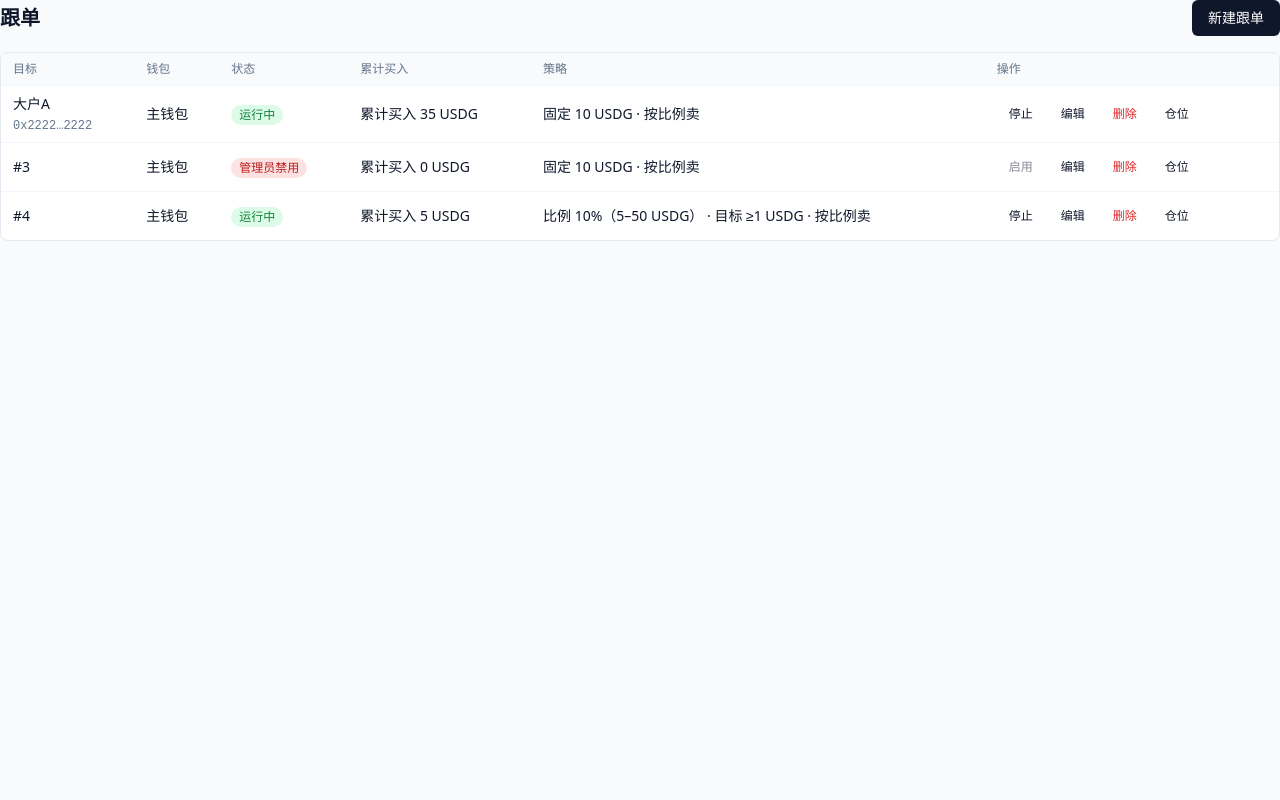
deletes with confirmation; 409 links to positions; warning is toasted
The image size is (1280, 800).
Click the button "删除" in the row of "大户A". click: (1125, 114)
box: [1101, 98, 1149, 130]
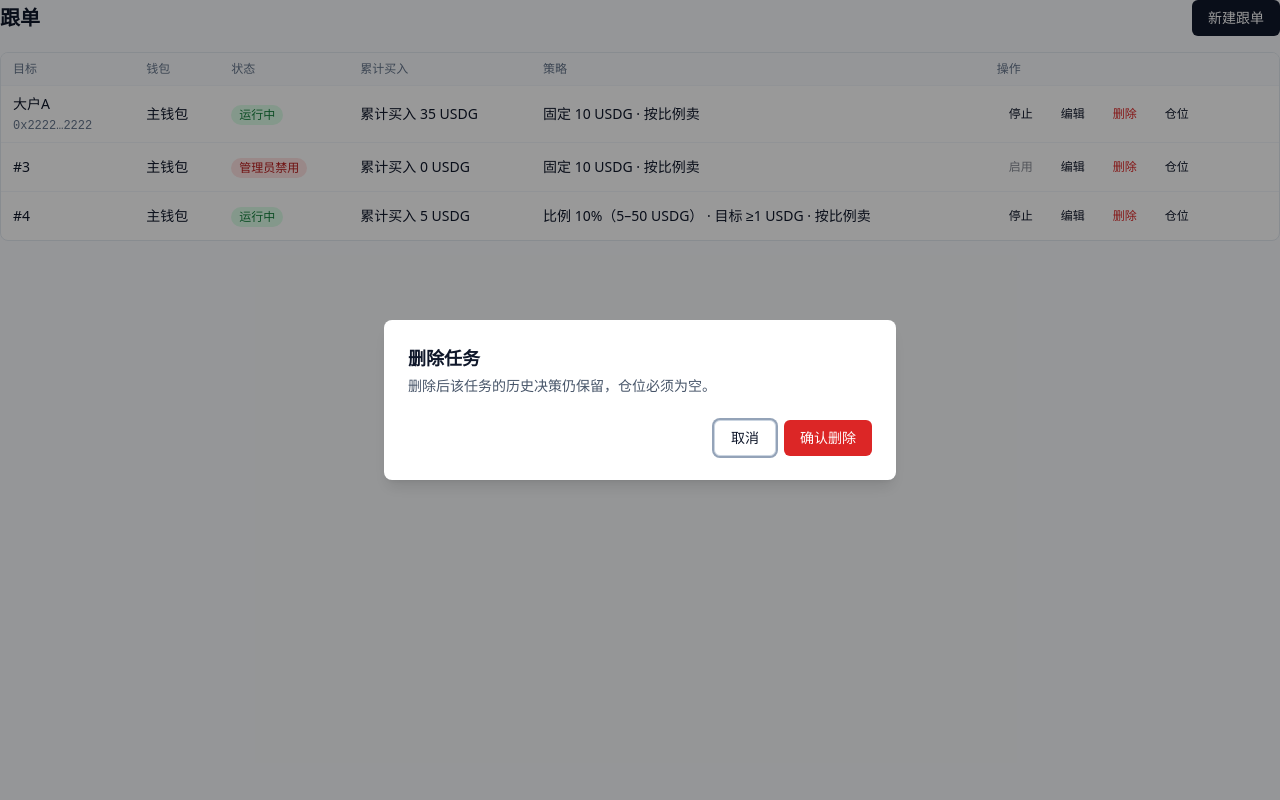
Click the button "确认删除". click: (828, 438)
box: [784, 420, 872, 456]
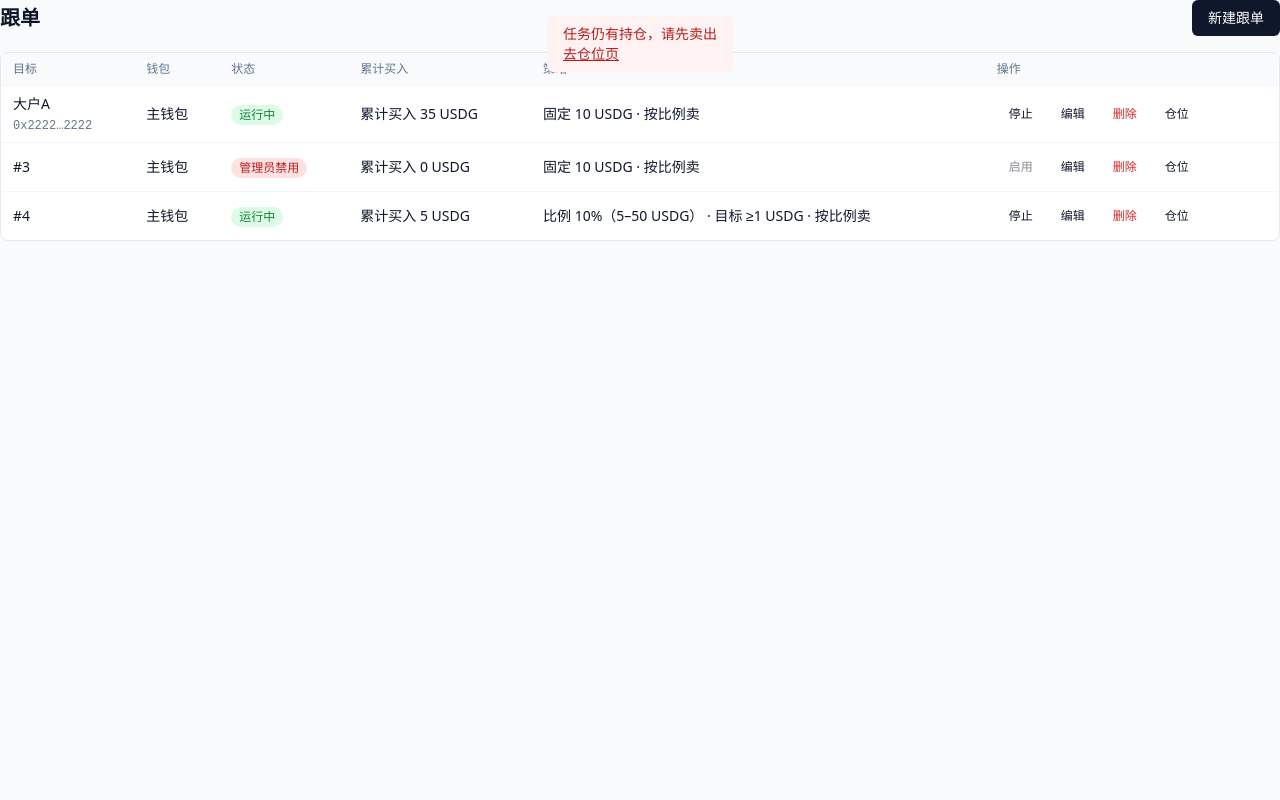
Now the text "任务仍有持仓，请先卖出" is shown, box [563, 24, 717, 44]
Click the button "删除" in the row of "大户A". click: (1125, 114)
box: [1101, 98, 1149, 130]
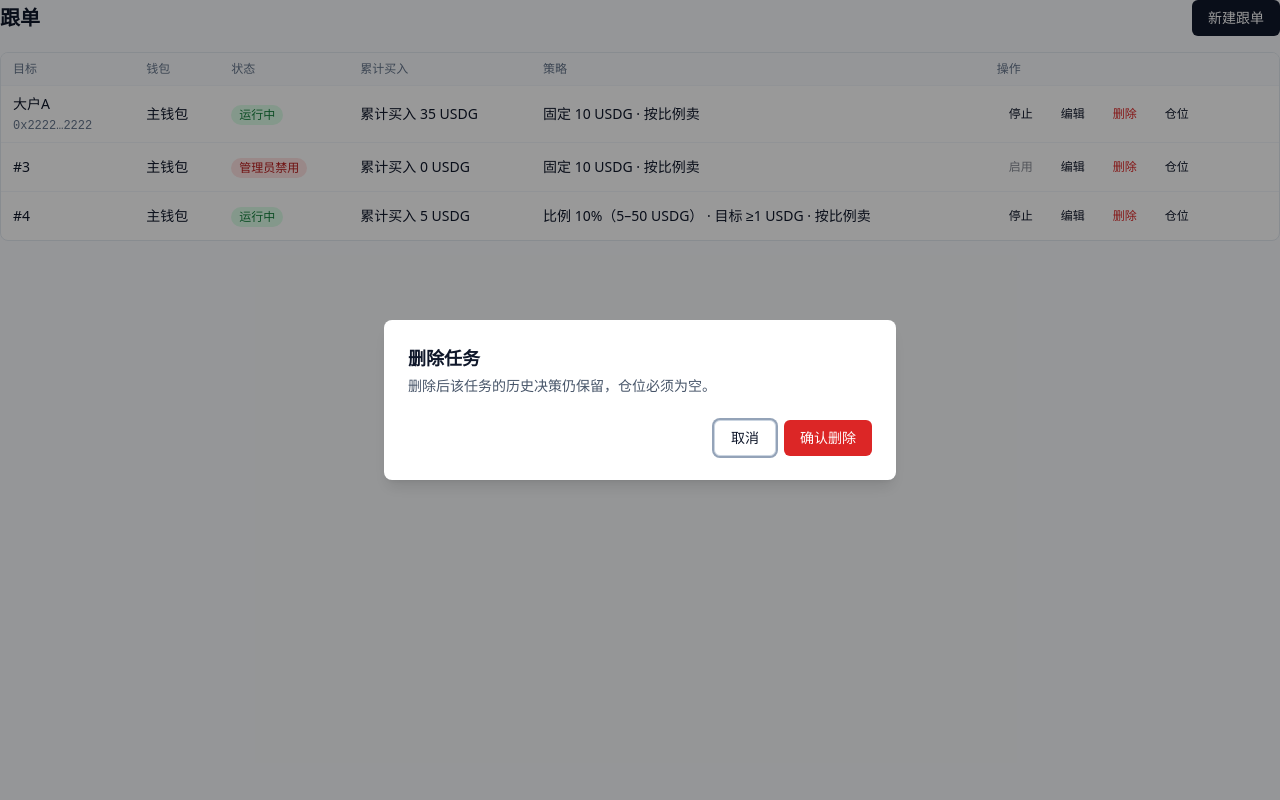
Click the button "确认删除". click: (828, 438)
box: [784, 420, 872, 456]
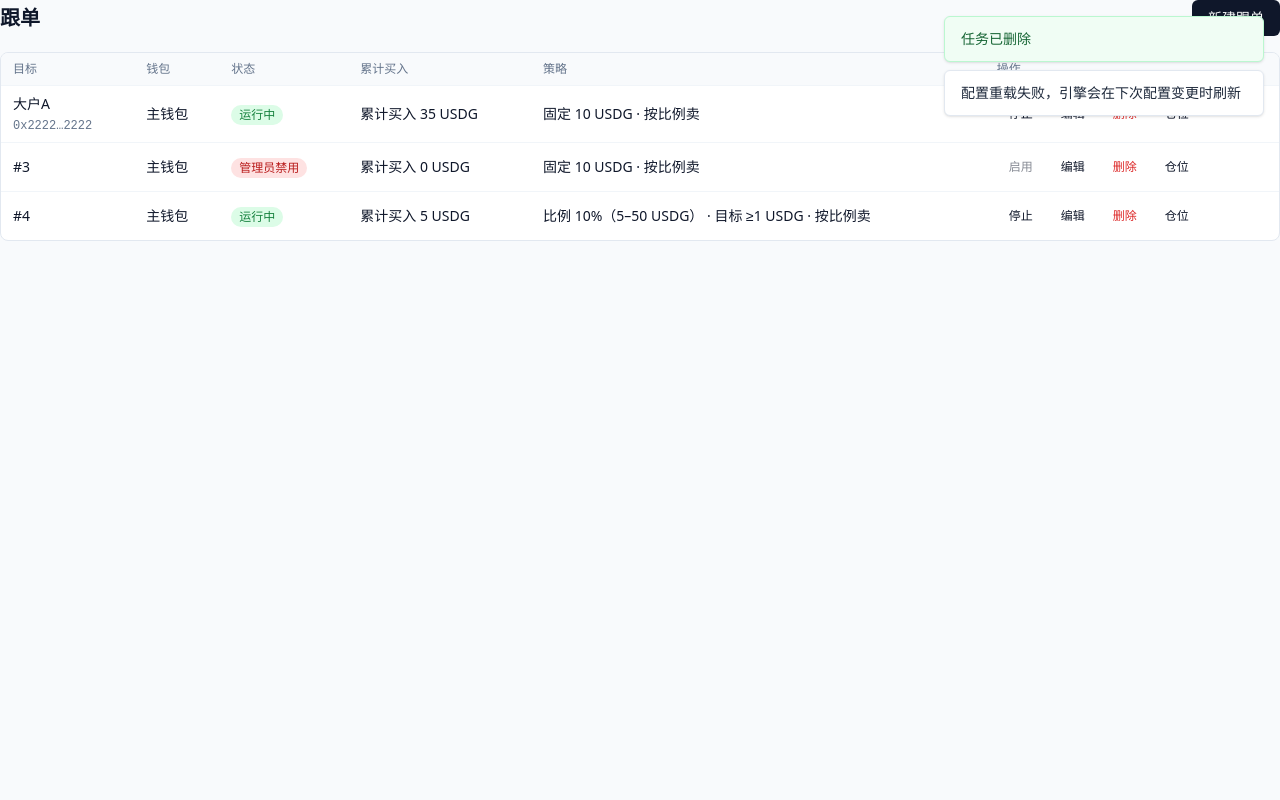
Now the text "配置重载失败，引擎会在下次配置变更时刷新" is shown, box [944, 70, 1264, 116]
